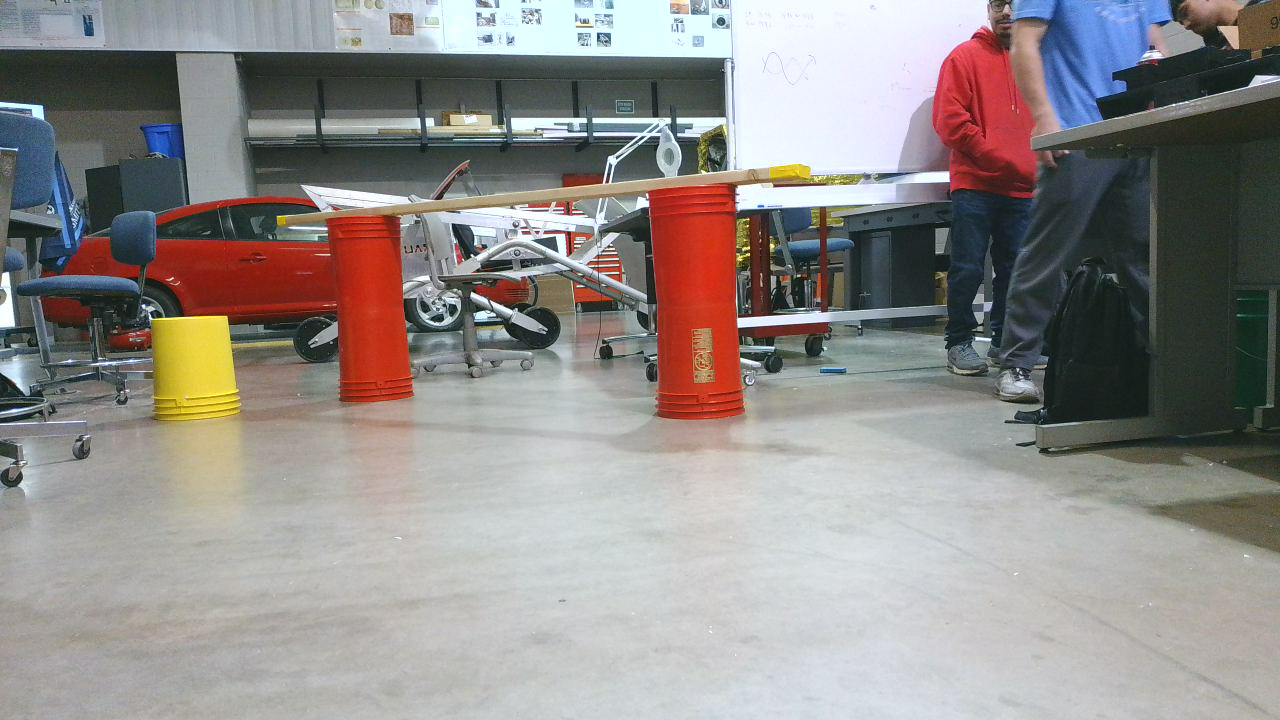red_bucket_arch: (337, 165, 797, 422)
yellow_bucket: (154, 320, 247, 423)
